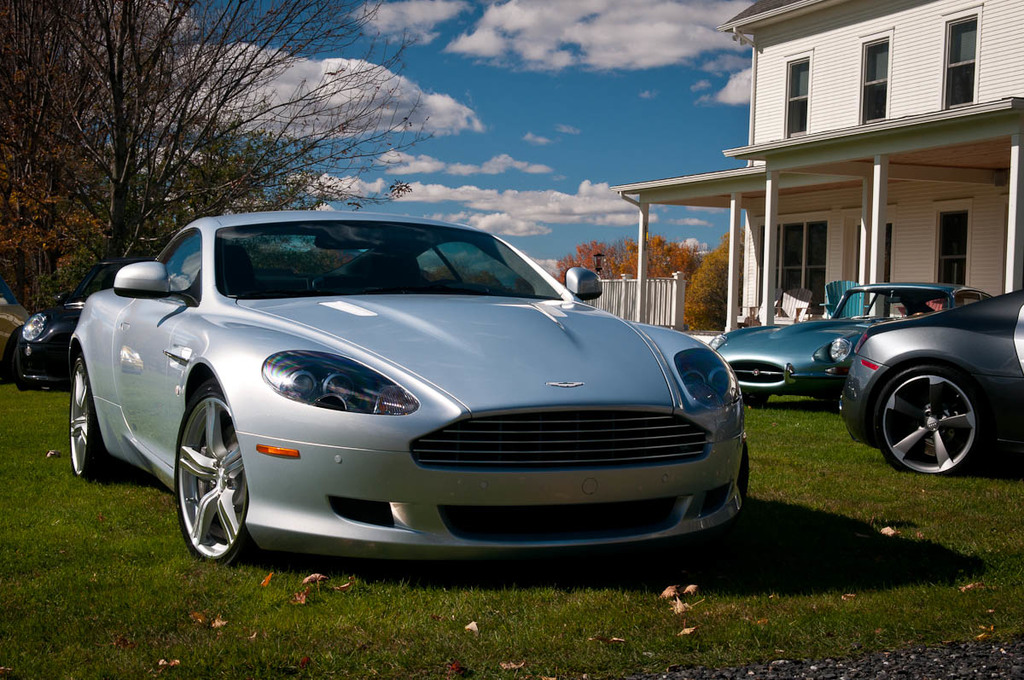Tree: (0, 0, 438, 289), (552, 233, 703, 280), (677, 230, 747, 331)
